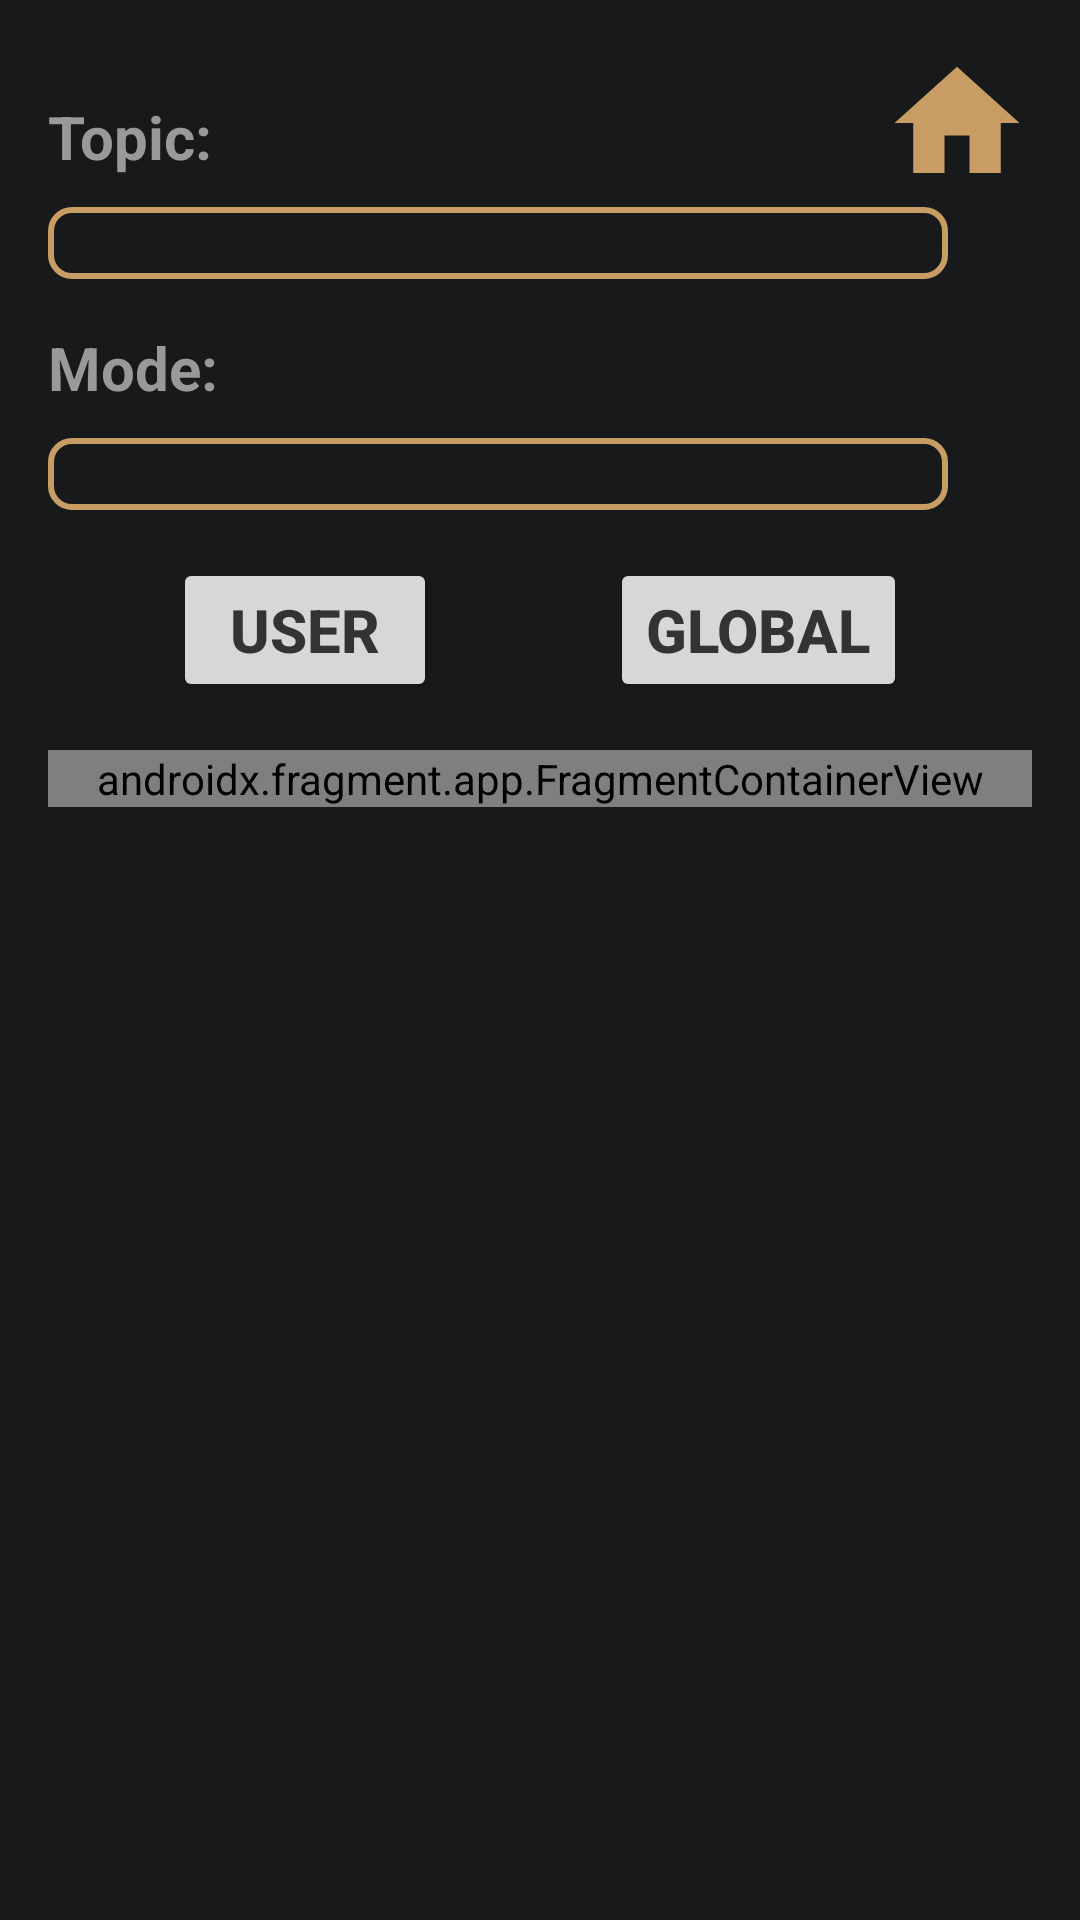

Point at icon controls on the screen. Image size 1080px×1920px, points as [x,y].
home: [957,120]
